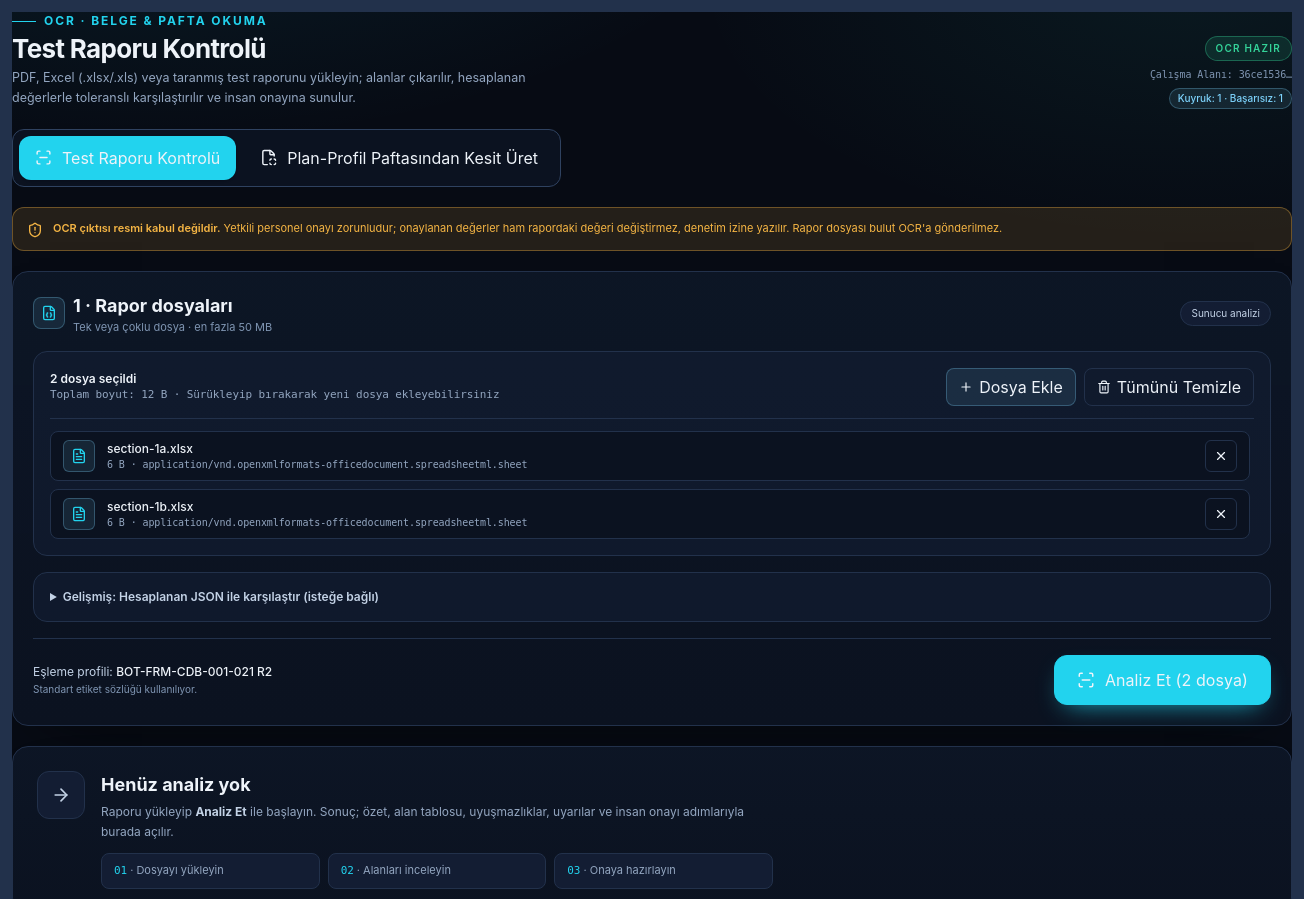
Test: OcrPage unmount cleanup (F10) and dynamic server timeout (F11) › supports selecting multiple files, removing one, and analyzing a batch sequentially
Earlier steps of the test are not shown.
Later steps or results of the test are not shown.
Expected: the text "2 dosya seçildi" is shown, [50, 371, 136, 386]
Expected: the button "Analiz Et (2 dosya)" is shown, [1054, 655, 1271, 705]
Click the button named "section-1b.xlsx dosyasını kaldır". click: (1221, 514)
box: [1205, 498, 1237, 530]
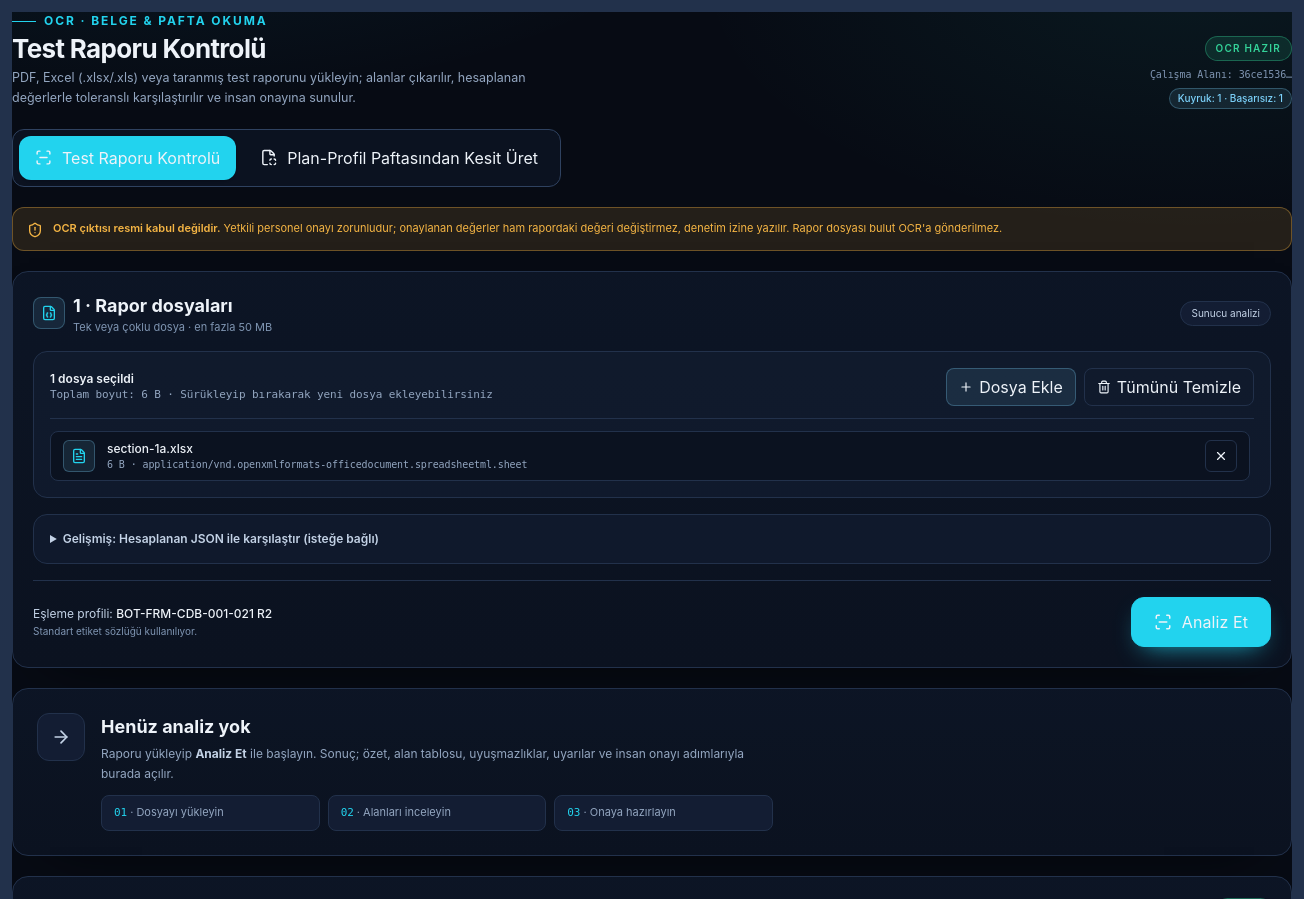
Expected: the text "1 dosya seçildi" is shown, [50, 371, 134, 386]
Expected: the button "Analiz Et" is shown, [1131, 597, 1271, 647]
